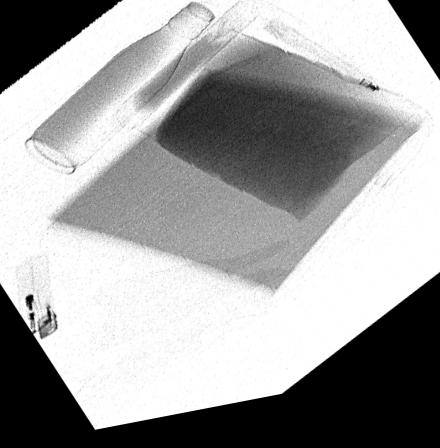Lighter: (13, 255, 59, 342)
